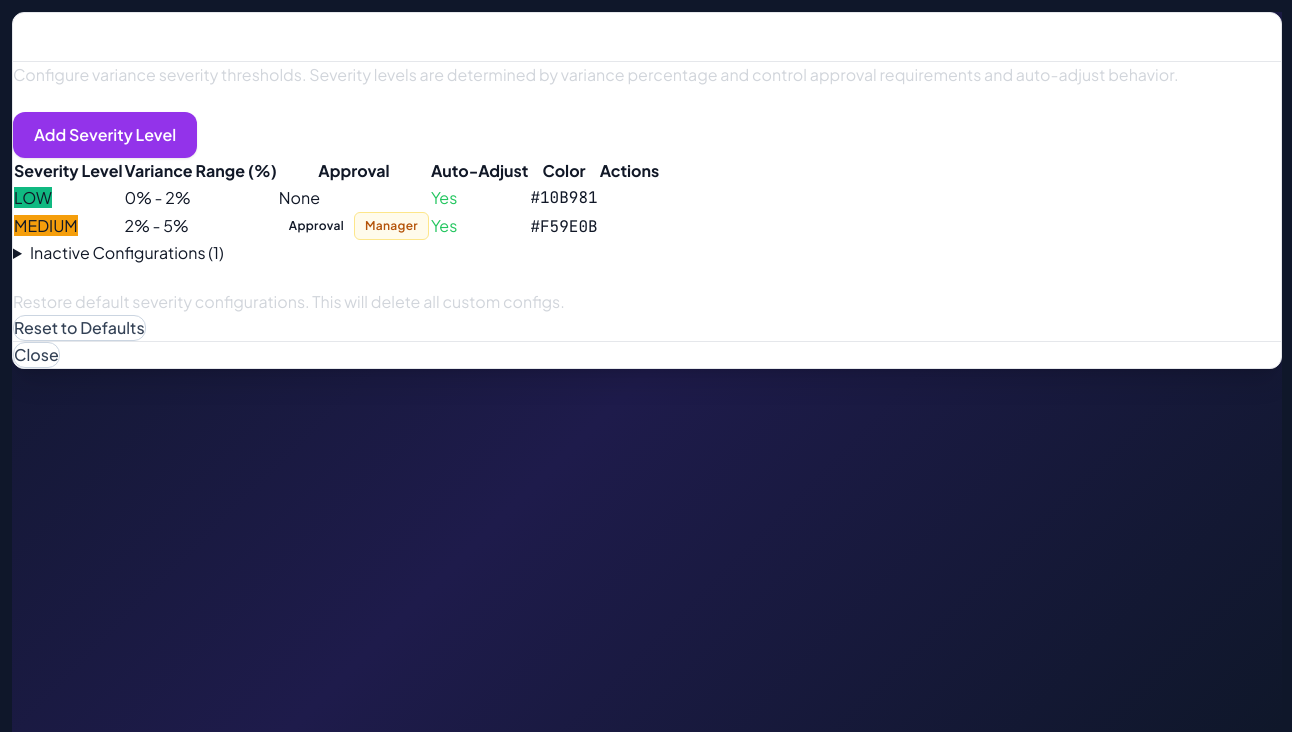
Scenario: SeverityConfigModal Component › Add New Configuration › shows add form when Add Severity Level button is clicked
Step 1. Click the button "Add Severity Level" → [105, 135], box [13, 112, 197, 158]
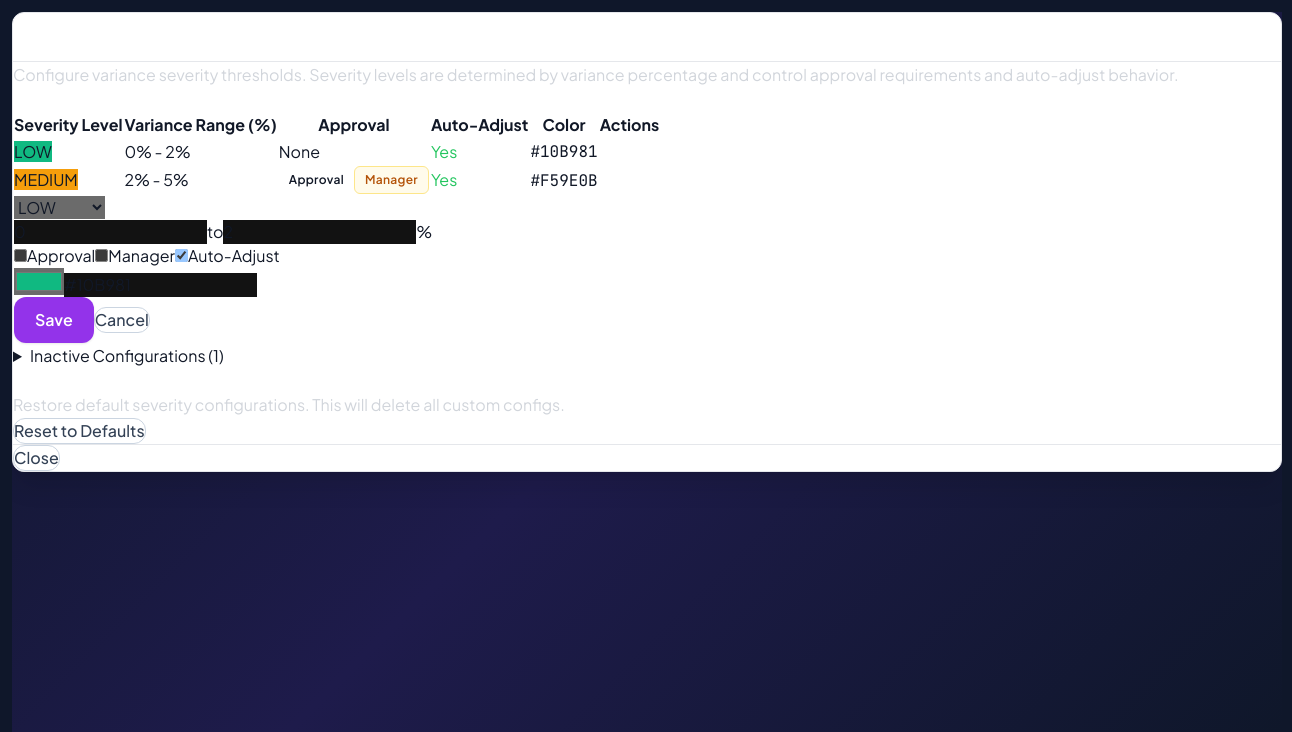
Expected: the button "Save" is shown, [14, 297, 94, 343]
Expected: the button "Cancel" is shown, [94, 307, 150, 333]
